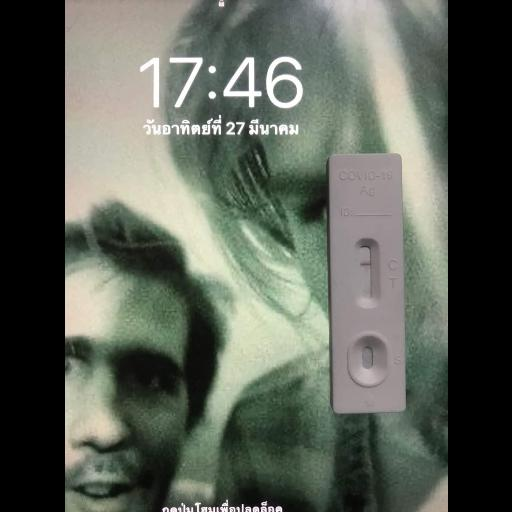Neg: (328, 154, 406, 412)
